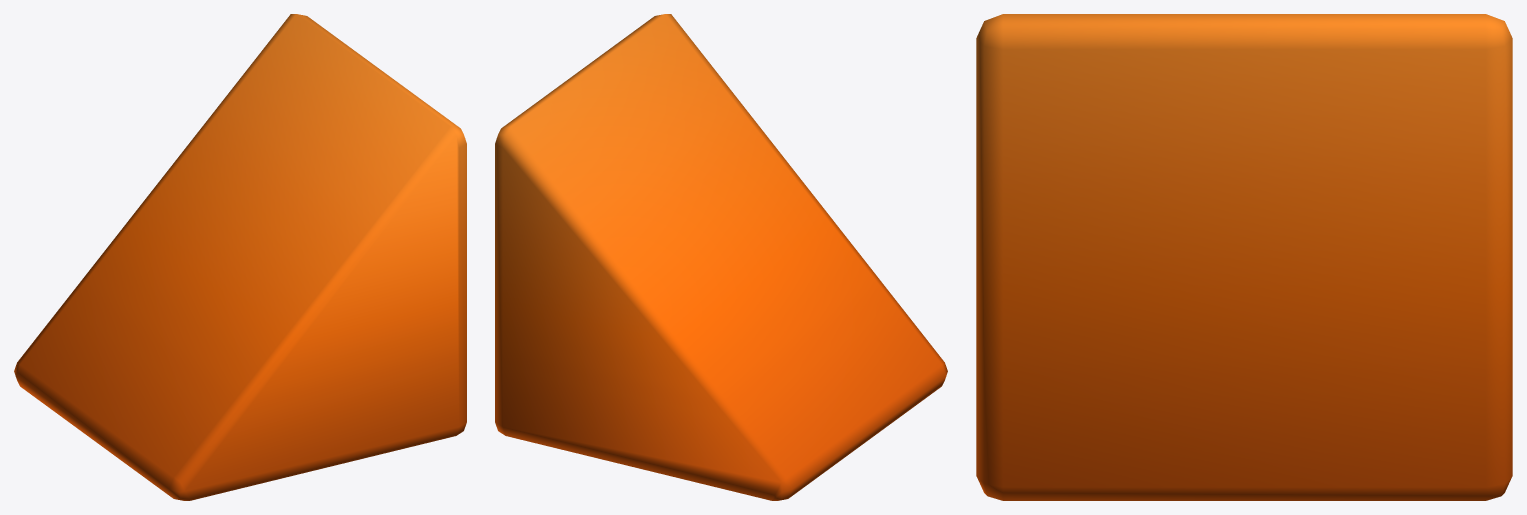
File: 3D_Tile_Ground_Slope_03.fbx
3 renders of one model, left to right at view 1: azimuth 30°, elevation 25°; view 2: azimuth 150°, elevation 25°; view 3: azimuth 270°, elevation 25°, orthographic. The views are drawn at different scales.
Parts seen in each view (by area): view 1: 3D_Tile_Ground_Slope_03; view 2: 3D_Tile_Ground_Slope_03; view 3: 3D_Tile_Ground_Slope_03.
Boxes of the visible parts, x1,y1,x2,y2 form: 3D_Tile_Ground_Slope_03: [14, 14, 466, 500]; 3D_Tile_Ground_Slope_03: [495, 14, 947, 500]; 3D_Tile_Ground_Slope_03: [976, 14, 1512, 500].
Bounding box in the file's own units: 200 × 200 × 200.
